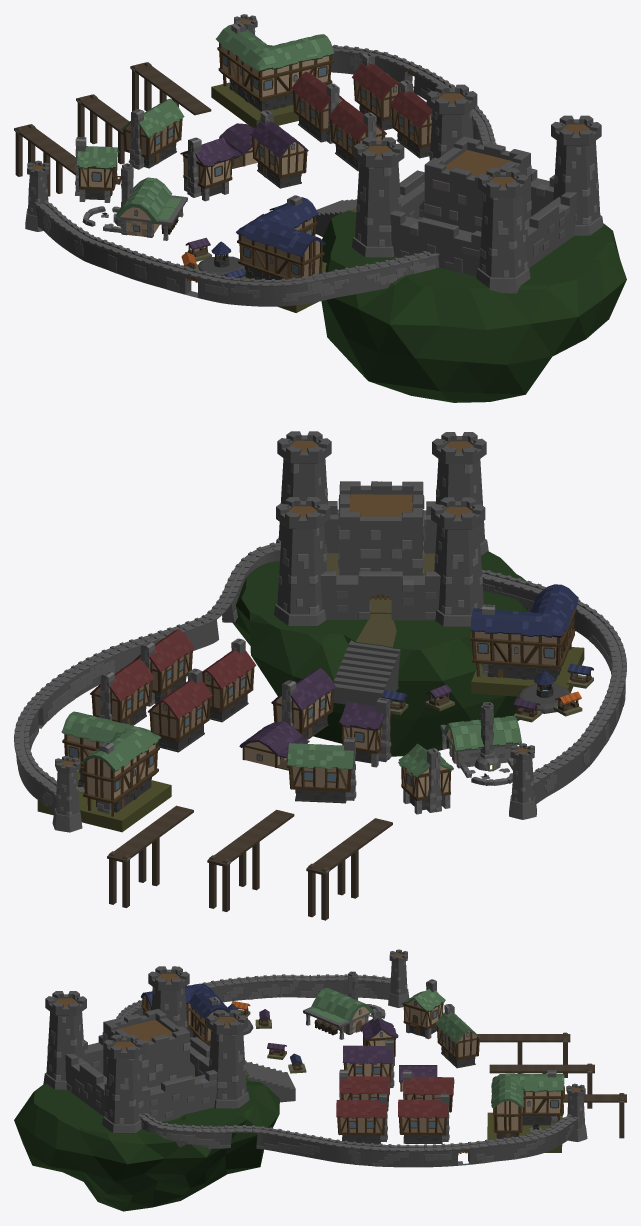
Rendered from Moonvale.glb.
3 renders of one model, top to bottom at view 1: azimuth 30°, elevation 25°; view 2: azimuth 150°, elevation 25°; view 3: azimuth 270°, elevation 25°, orthographic. The views are drawn at different scales.
Parts seen in each view (by area): view 1: Castle.001, Castle Walls, Market House.002, Market House, Blacksmith, Big House.002, Big House.001, House Middle.001, House Middle.010, Big House.004, Big House.005, Big House.006 (+5 smaller); view 2: Castle.001, Castle Walls, Market House, Market House.002, Blacksmith, Big House.002, Big House.004, Big House.006, Big House.001, House Middle.010, Big House.003, Plane.007 (+6 smaller); view 3: Castle.001, Castle Walls, Market House.002, Blacksmith, Big House.006, Big House.005, Big House.002, Market House, Big House.001, House Middle.010, Big House.003, Big House.004 (+5 smaller).
Part boxes in pixels (x1=…): Castle.001: x1=315, y1=84, x2=626, y2=402; Castle Walls: x1=25, y1=14, x2=496, y2=306; Market House.002: x1=211, y1=22, x2=334, y2=127; Market House: x1=236, y1=195, x2=326, y2=312; Blacksmith: x1=82, y1=163, x2=187, y2=240; Big House.002: x1=121, y1=98, x2=184, y2=169; Big House.001: x1=250, y1=110, x2=308, y2=188; House Middle.001: x1=180, y1=137, x2=234, y2=201; House Middle.010: x1=75, y1=137, x2=120, y2=202; Big House.004: x1=291, y1=71, x2=346, y2=143; Big House.005: x1=390, y1=80, x2=432, y2=158; Big House.006: x1=352, y1=52, x2=400, y2=130; Castle.001: x1=232, y1=431, x2=527, y2=756; Castle Walls: x1=14, y1=542, x2=626, y2=832; Market House: x1=470, y1=584, x2=584, y2=696; Market House.002: x1=37, y1=711, x2=171, y2=832; Blacksmith: x1=440, y1=702, x2=521, y2=785; Big House.002: x1=287, y1=737, x2=356, y2=803; Big House.004: x1=148, y1=668, x2=212, y2=752; Big House.006: x1=90, y1=659, x2=154, y2=725; Big House.001: x1=271, y1=668, x2=335, y2=739; House Middle.010: x1=398, y1=743, x2=453, y2=814; Big House.003: x1=202, y1=638, x2=256, y2=722; Plane.007: x1=306, y1=818, x2=392, y2=920; Castle.001: x1=14, y1=966, x2=295, y2=1211; Castle Walls: x1=116, y1=949, x2=587, y2=1167; Market House.002: x1=487, y1=1070, x2=564, y2=1152; Blacksmith: x1=303, y1=971, x2=385, y2=1039; Big House.006: x1=398, y1=1093, x2=449, y2=1143; Big House.005: x1=336, y1=1094, x2=387, y2=1144; Big House.002: x1=435, y1=1004, x2=480, y2=1068; Market House: x1=141, y1=983, x2=230, y2=1046; Big House.001: x1=342, y1=1039, x2=394, y2=1087; House Middle.010: x1=401, y1=979, x2=445, y2=1039; Big House.003: x1=339, y1=1069, x2=390, y2=1111; Big House.004: x1=403, y1=1070, x2=454, y2=1112.
Bounding box in the file's own units: 5.31 × 2.66 × 7.83.
